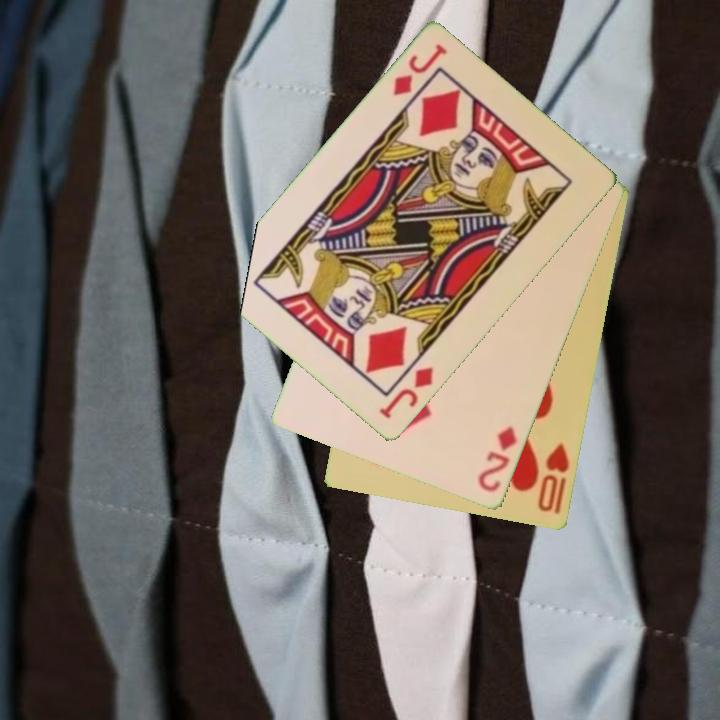10h: (534, 440, 573, 516)
2d: (475, 423, 520, 496)
Jd: (375, 363, 437, 423), (389, 40, 451, 100)
